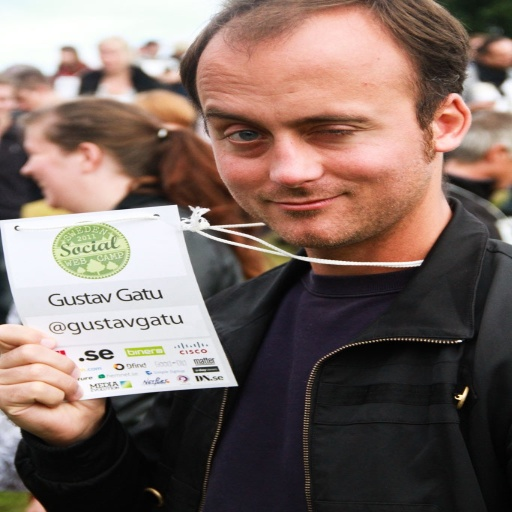hand: (3, 344, 107, 448)
